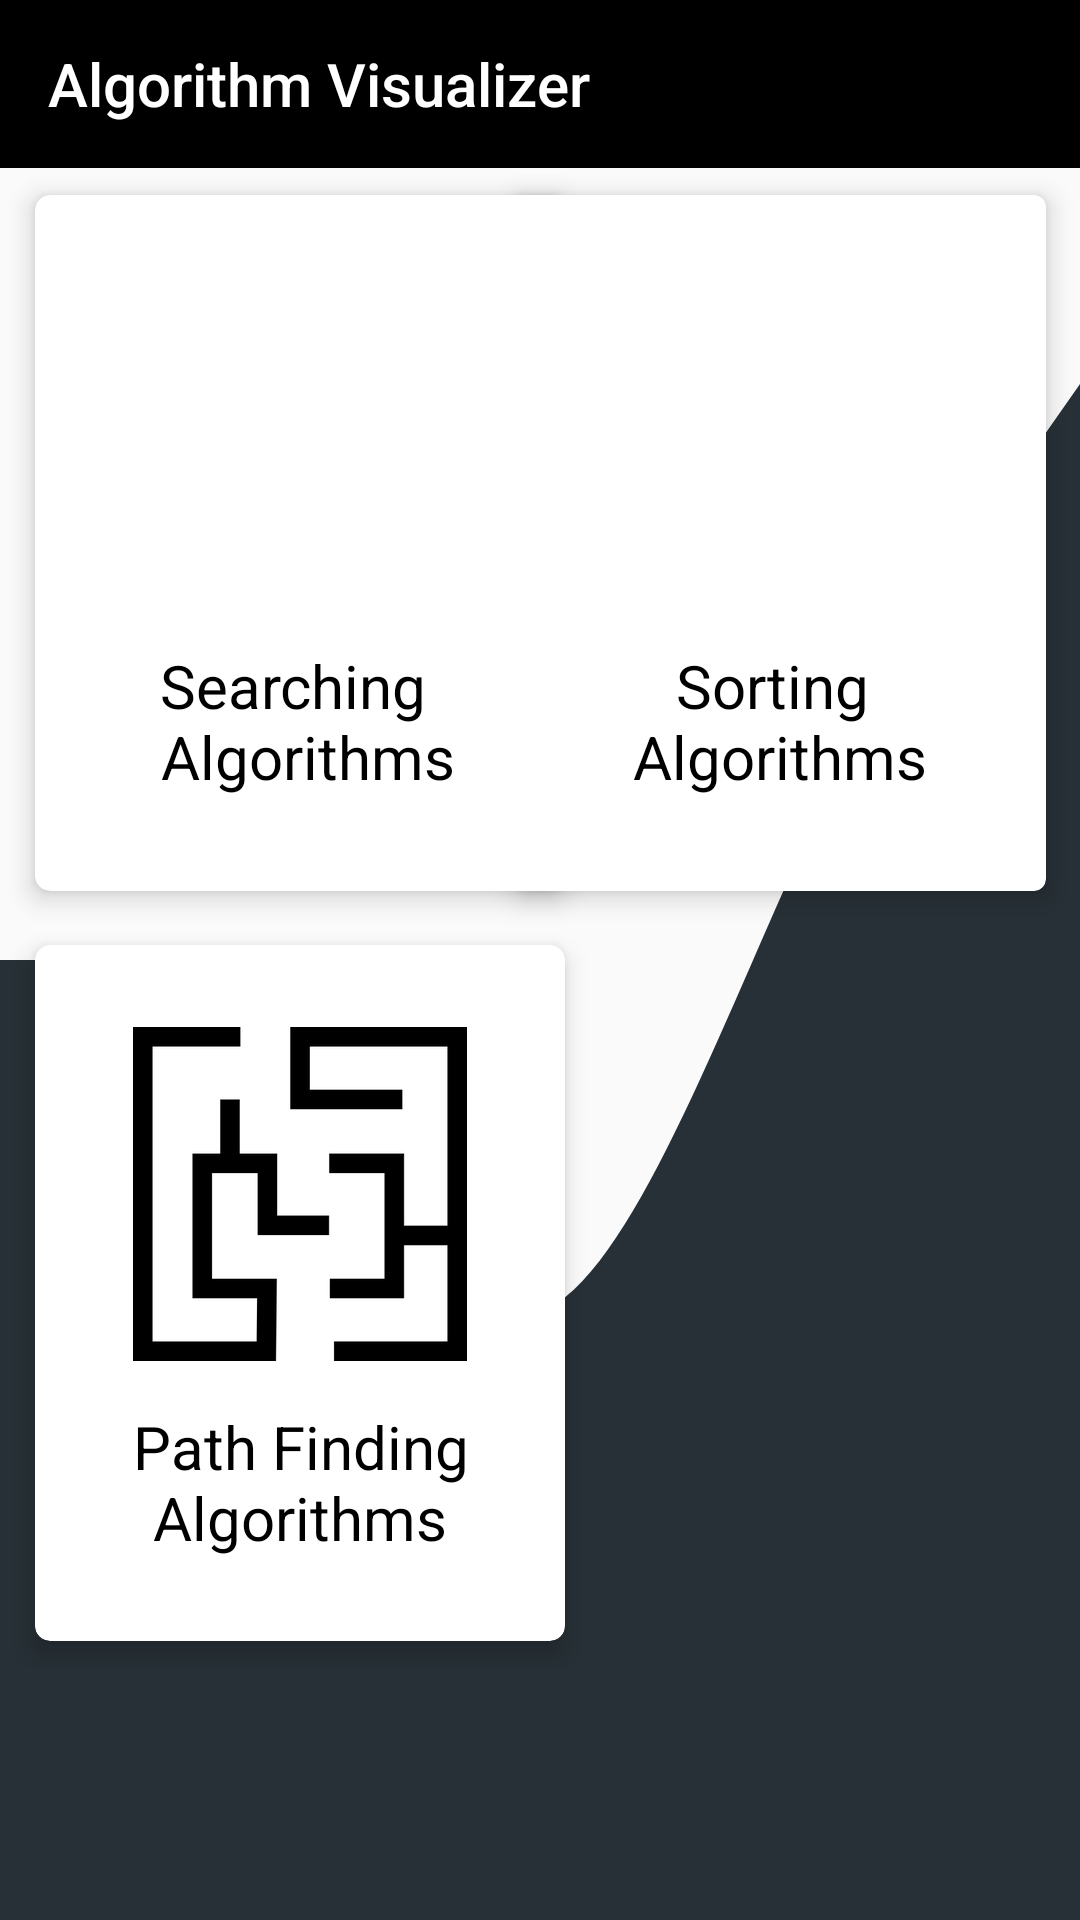

Point at icon controls on the screen. Image size 1080w x 1920h, points as [x,y].
maze: [300,1194]
